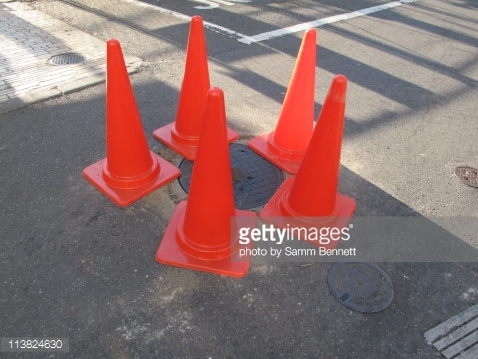trafficcone: (155, 87, 257, 279), (260, 74, 358, 253), (82, 39, 182, 206), (152, 16, 239, 161), (247, 27, 314, 174)
